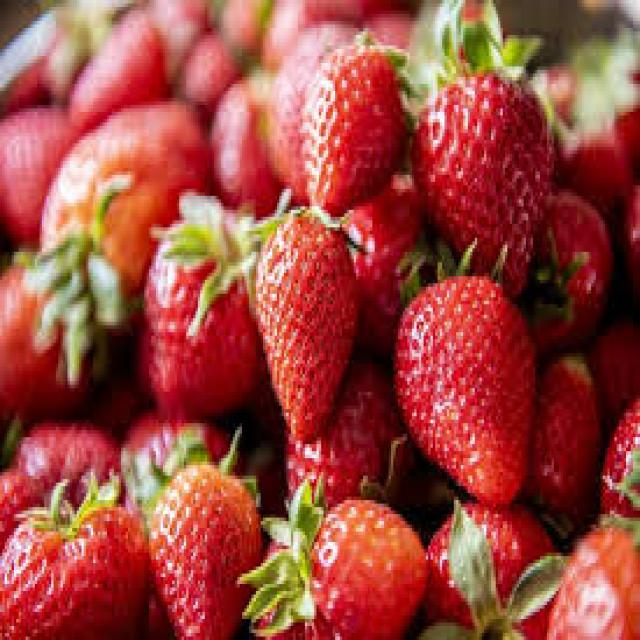ripe: (209, 165, 384, 452), (386, 244, 551, 516)
